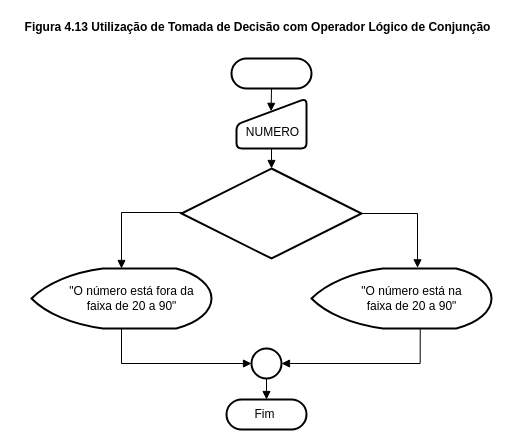
Image size: 514x447. Some labels were removed from this diagram. The shapes that lost their labels are listed below. From the top down, each one's box as (x1, y1, x2, y2) in pixels, then its label:
(230, 57, 312, 89): Início
(180, 167, 362, 259): NUMERO >= 20 e NUMERO <= 90
